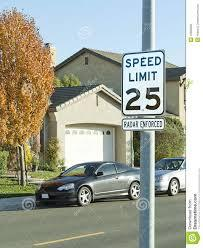Speed Limit 25mph: (123, 54, 163, 112)
